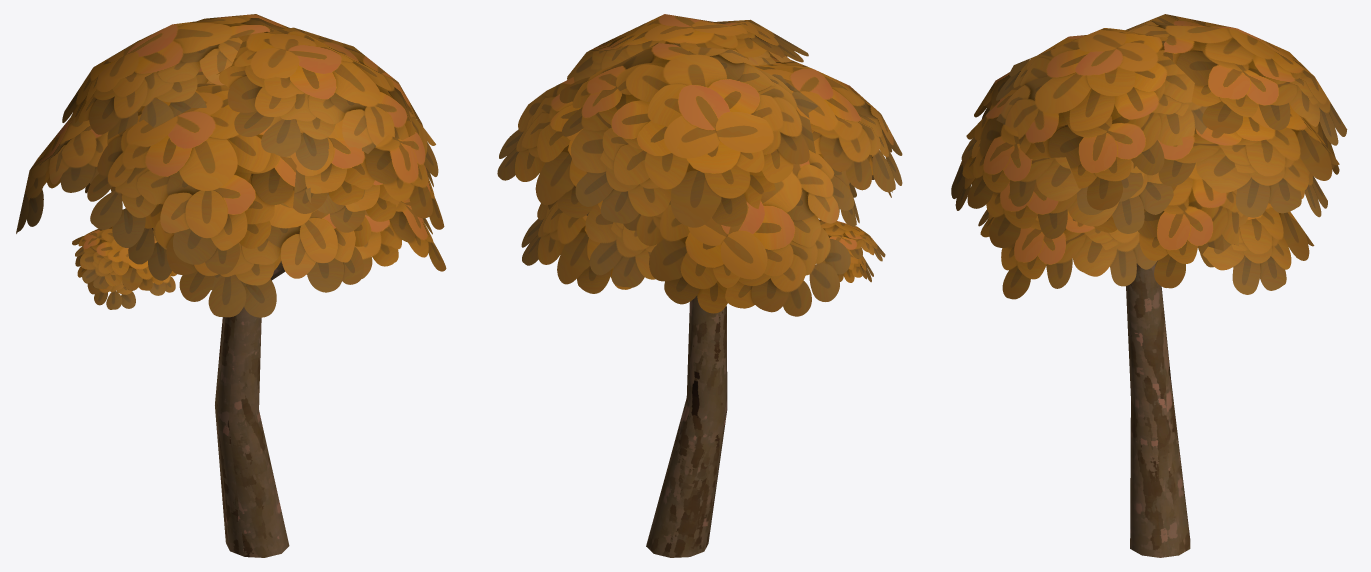
File: tree_3.gltf
The picture shows the model from 3 angles, left to right: view 1: azimuth 30°, elevation 25°; view 2: azimuth 150°, elevation 25°; view 3: azimuth 270°, elevation 25°; orthographic projection.
Visible parts, largest first — view 1: Tree_1; view 2: Tree_1; view 3: Tree_1.
Part boxes in pixels (x1,y1,x2,y2): Tree_1: (16, 14, 446, 557); Tree_1: (497, 14, 902, 557); Tree_1: (951, 14, 1347, 557).
Bounding box in the file's own units: 4.14 × 5.54 × 4.13.
Materials: 2 (2 with a texture image).
